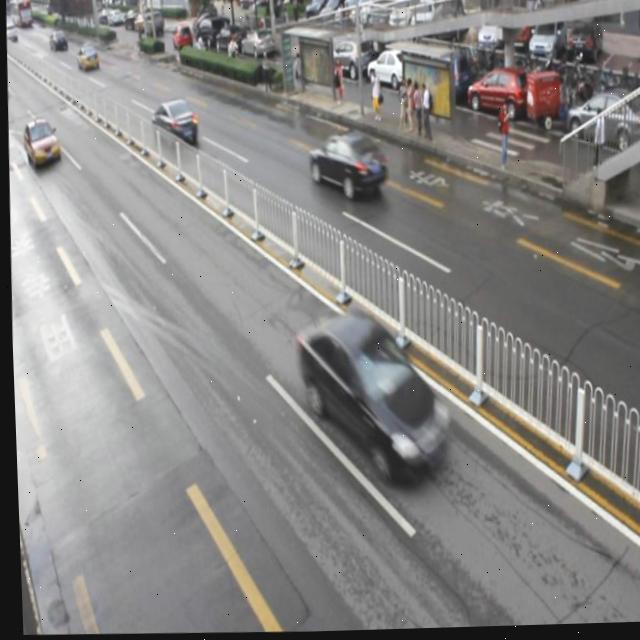car: (288, 308, 446, 487), (306, 131, 386, 200), (150, 99, 195, 147), (20, 115, 61, 167)
